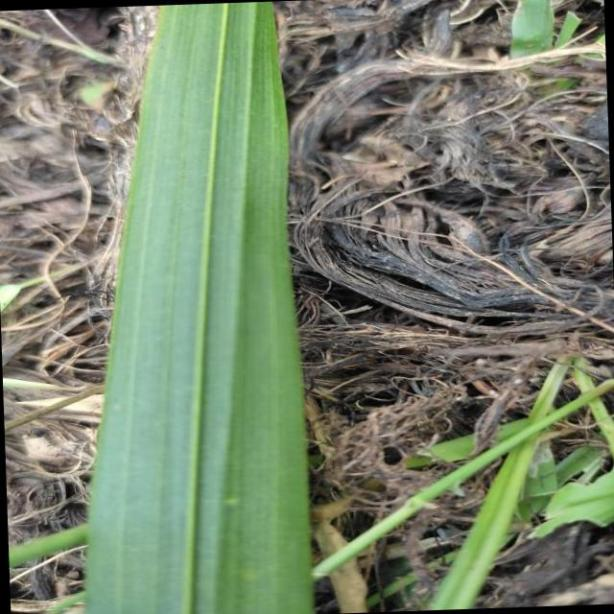Healthy: (88, 1, 316, 614)
